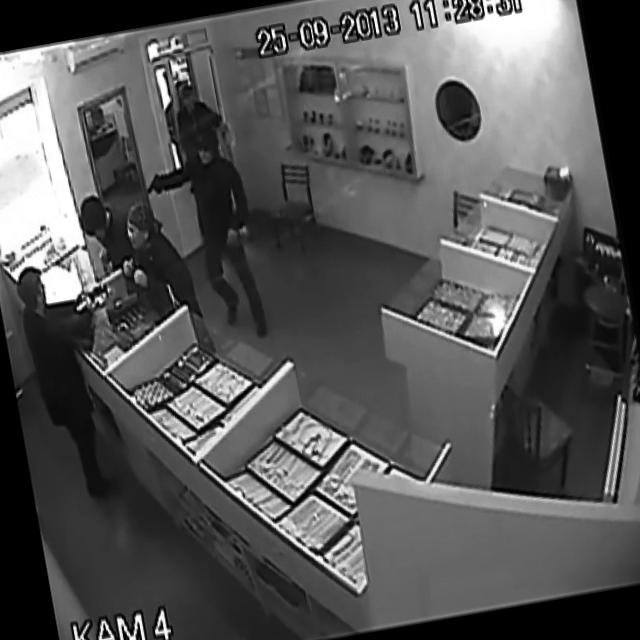gun: (140, 159, 178, 201)
person: (6, 249, 132, 516), (121, 194, 182, 300), (68, 189, 140, 274), (162, 75, 218, 124)
person with a gun: (139, 116, 310, 354)
